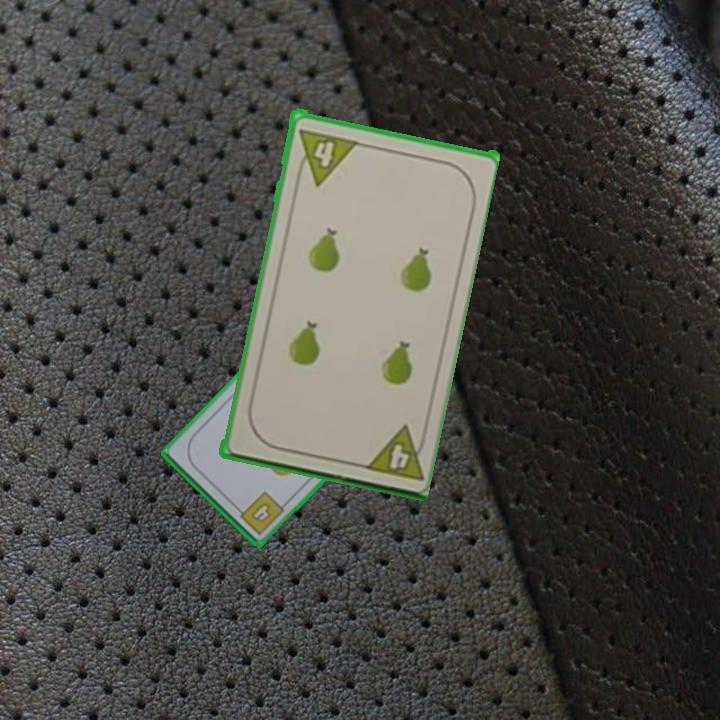4b: (232, 487, 287, 538)
4p: (358, 420, 430, 484), (292, 124, 359, 187)
